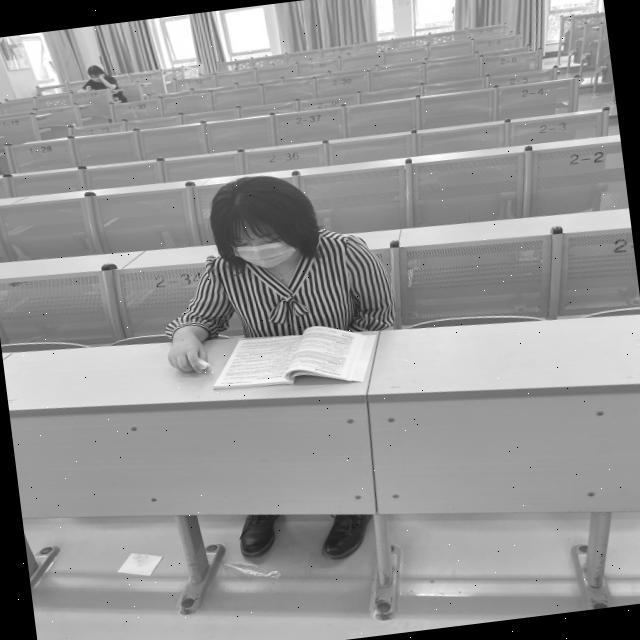study: (154, 163, 401, 404)
